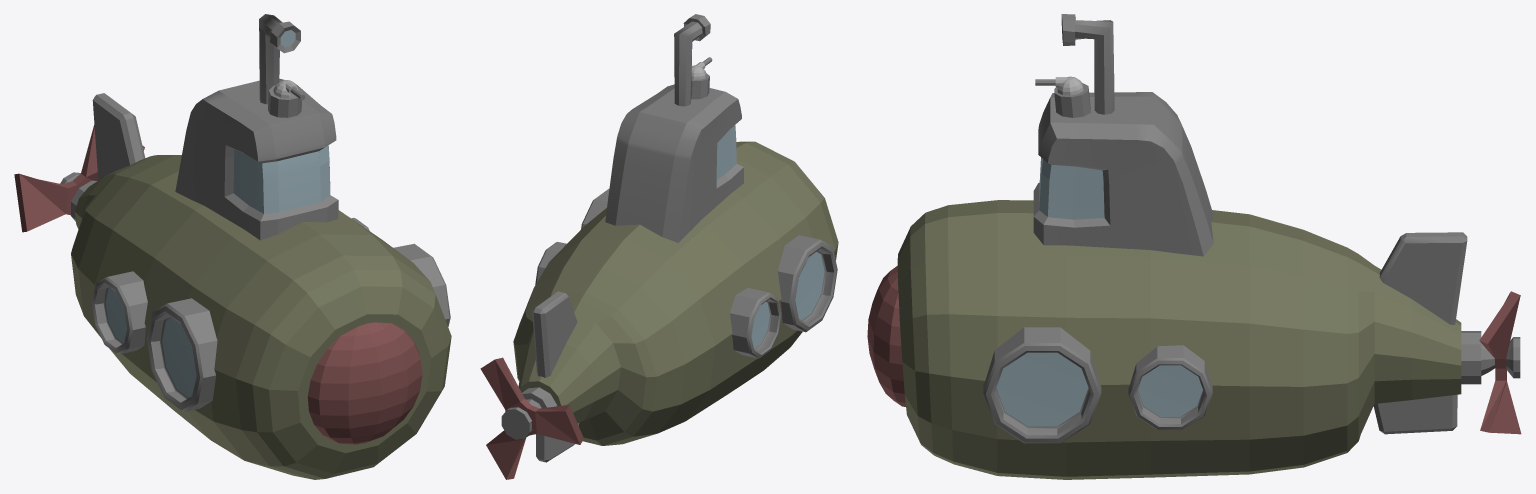
File: Starting Submarine (1).fbx
The picture shows the model from 3 angles, left to right: view 1: azimuth 30°, elevation 25°; view 2: azimuth 150°, elevation 25°; view 3: azimuth 270°, elevation 25°; orthographic projection. The views are drawn at different scales.
Visible parts, largest first — view 1: polySurface267, polySurface24; view 2: polySurface267, polySurface24; view 3: polySurface267, polySurface24.
Boxes of the visible parts, x1,y1,x2,y2 form: polySurface267: [60, 14, 451, 479]; polySurface24: [14, 125, 144, 232]; polySurface267: [501, 14, 838, 462]; polySurface24: [480, 357, 583, 479]; polySurface267: [867, 14, 1520, 479]; polySurface24: [1479, 291, 1521, 434].
Size of the model in its own units: 4.28 by 6.77 by 8.93.
